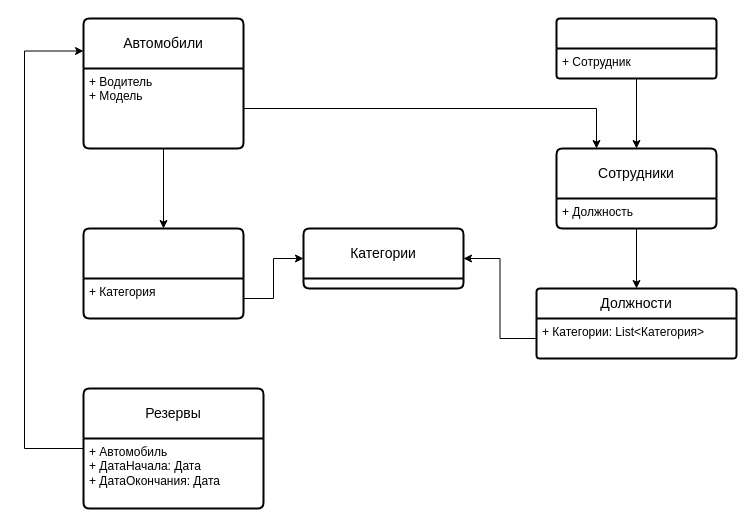
Image size: 755x526. Some labels were removed from this diagram. Each missing label, with the box of its shape:
Модели: (82, 227, 244, 319)
Пользователь: (555, 17, 717, 79)
